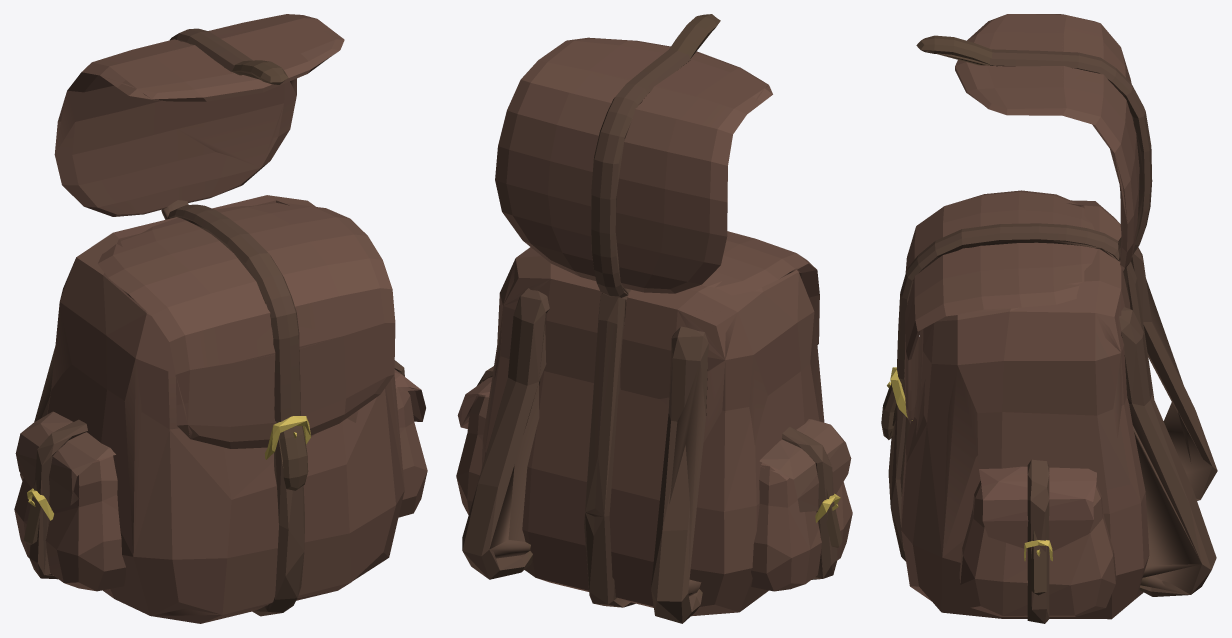
Rendered from item_backpack.glb.
3 views of the same model, side by side, from view 1: azimuth 30°, elevation 25°; view 2: azimuth 150°, elevation 25°; view 3: azimuth 270°, elevation 25° (orthographic). The views are drawn at different scales.
Visible parts, largest first — view 1: Backpack.002 (×2), Backpack; view 2: Backpack, Backpack.002 (×2); view 3: Backpack, Backpack.002 (×2).
Boxes of the visible parts, <box> form: Backpack.002 (×2): <box>54,14,395,490</box>; Backpack: <box>14,195,427,623</box>; Backpack: <box>456,247,852,623</box>; Backpack.002 (×2): <box>495,14,819,344</box>; Backpack: <box>887,200,1217,623</box>; Backpack.002 (×2): <box>881,14,1152,439</box>.
Size of the model in its own units: 0.5338 by 0.7229 by 0.4031.
Materials: 1 (1 with a texture image).
